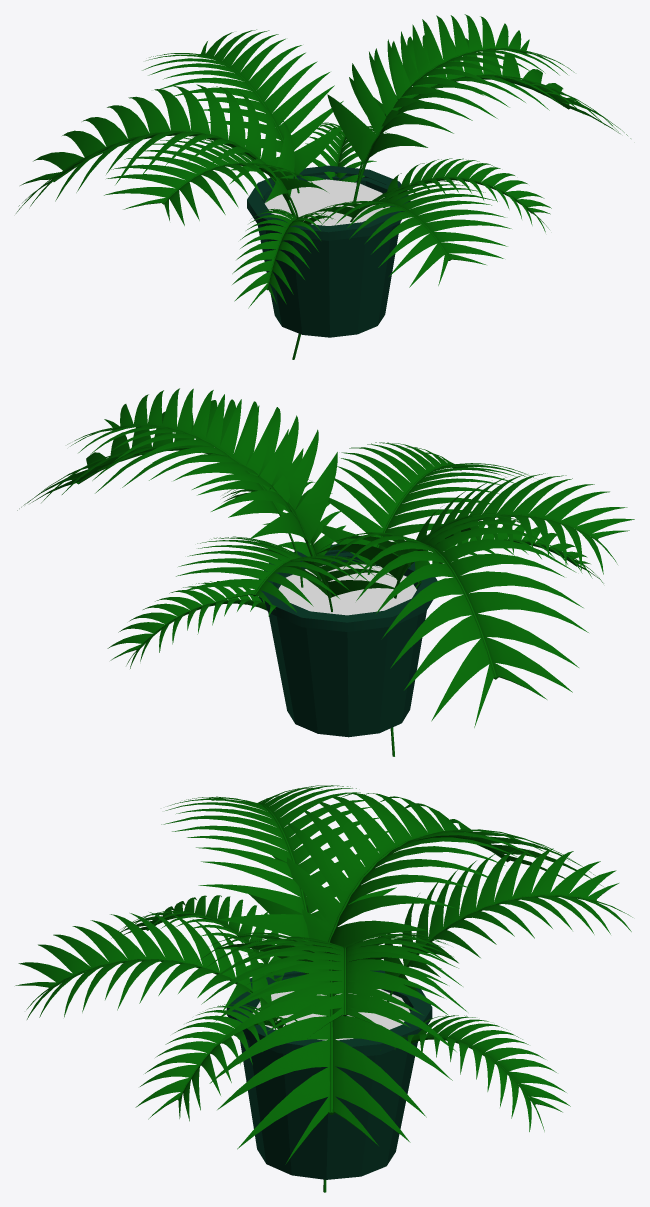
Rendered from plant.FBX.
3 renders of one model, top to bottom at view 1: azimuth 30°, elevation 25°; view 2: azimuth 150°, elevation 25°; view 3: azimuth 270°, elevation 25°, orthographic. The views are drawn at different scales.
Parts seen in each view (by area): view 1: Cylinder002, Cylinder007, Cylinder008, Cylinder005, Cylinder006, Cylinder001, Cylinder004, Cylinder010, Cylinder009, Cylinder003, Cylinder011; view 2: Cylinder007, Cylinder002, Cylinder008, Cylinder001, Cylinder006, Cylinder004, Cylinder005, Cylinder003, Cylinder011, Cylinder010, Cylinder009; view 3: Cylinder008, Cylinder007, Cylinder002, Cylinder004, Cylinder006, Cylinder005, Cylinder001, Cylinder011, Cylinder009, Cylinder010, Cylinder003.
Boxes of the visible parts, x1=… form: Cylinder002: x1=247, y1=165, x2=410, y2=337; Cylinder007: x1=16, y1=84, x2=300, y2=359; Cylinder008: x1=327, y1=35, x2=630, y2=201; Cylinder005: x1=142, y1=29, x2=343, y2=193; Cylinder006: x1=309, y1=179, x2=511, y2=287; Cylinder001: x1=349, y1=14, x2=574, y2=183; Cylinder004: x1=104, y1=136, x2=326, y2=225; Cylinder010: x1=232, y1=208, x2=333, y2=308; Cylinder009: x1=383, y1=158, x2=551, y2=232; Cylinder003: x1=264, y1=179, x2=389, y2=225; Cylinder011: x1=300, y1=122, x2=387, y2=182; Cylinder007: x1=315, y1=513, x2=588, y2=756; Cylinder002: x1=259, y1=544, x2=437, y2=737; Cylinder008: x1=17, y1=399, x2=337, y2=579; Cylinder001: x1=67, y1=388, x2=303, y2=587; Cylinder006: x1=321, y1=442, x2=533, y2=574; Cylinder004: x1=395, y1=473, x2=634, y2=587; Cylinder005: x1=176, y1=536, x2=396, y2=612; Cylinder003: x1=278, y1=564, x2=416, y2=615; Cylinder011: x1=107, y1=581, x2=276, y2=668; Cylinder010: x1=415, y1=519, x2=603, y2=588; Cylinder009: x1=223, y1=479, x2=345, y2=556; Cylinder008: x1=197, y1=931, x2=466, y2=1192; Cylinder007: x1=249, y1=793, x2=604, y2=953; Cylinder002: x1=226, y1=970, x2=432, y2=1179; Cylinder004: x1=161, y1=785, x2=396, y2=941; Cylinder006: x1=15, y1=912, x2=271, y2=1019; Cylinder005: x1=383, y1=848, x2=632, y2=1002; Cylinder001: x1=237, y1=935, x2=458, y2=1038; Cylinder011: x1=380, y1=1015, x2=570, y2=1131; Cylinder009: x1=135, y1=1004, x2=297, y2=1121; Cylinder010: x1=111, y1=895, x2=292, y2=981; Cylinder003: x1=252, y1=989, x2=410, y2=1040.
Size of the model in its own units: 79.45 by 37.42 by 63.51.
Materials: 2 (2 with a texture image).
